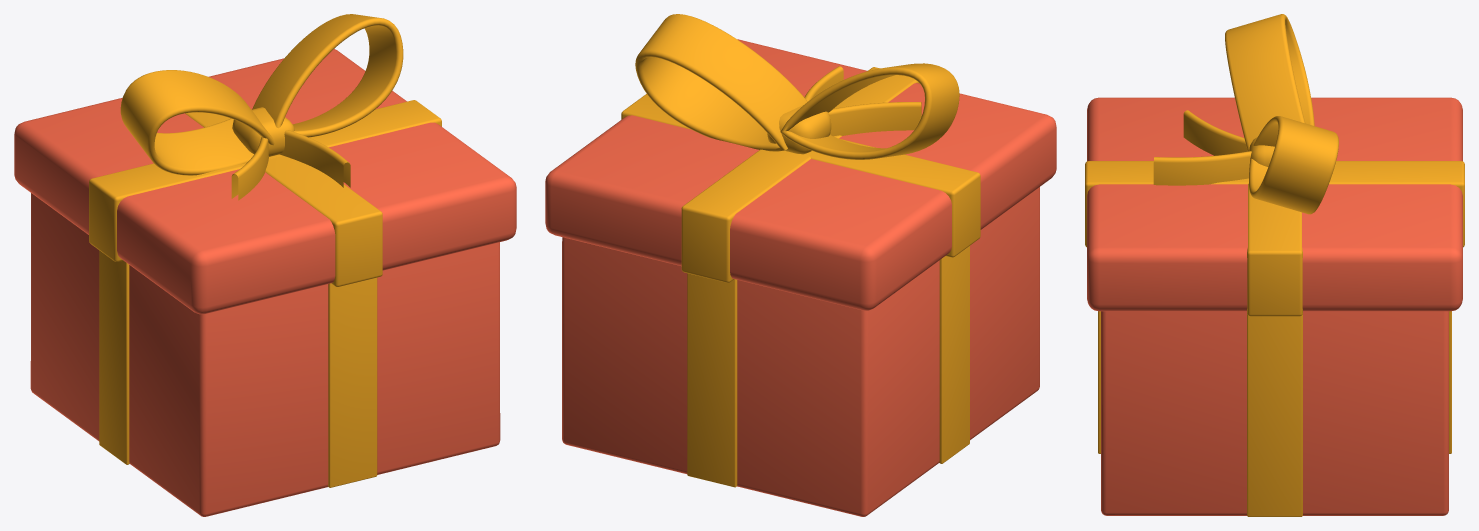
The model's file is giftbox.glb.
The picture shows the model from 3 angles, left to right: view 1: azimuth 30°, elevation 25°; view 2: azimuth 150°, elevation 25°; view 3: azimuth 270°, elevation 25°; orthographic projection.
Visible parts, largest first — view 1: giftbox, lid, bow-loop-l, ribbon-3, bow-loop-r, lid-ribbon-y, lid-ribbon-x, ribbon-1, bow-tail-r, bow-knot, bow-tail-l; view 2: giftbox, lid, bow-loop-r, ribbon-2, lid-ribbon-y, bow-loop-l, ribbon-1, lid-ribbon-x, bow-tail-l, bow-knot; view 3: giftbox, lid, ribbon-0, bow-loop-l, bow-loop-r, lid-ribbon-x, lid-ribbon-y, bow-tail-r, bow-tail-l, bow-knot.
Boxes of the visible parts, x1,y1,x2,y2 form: giftbox: (30, 193, 500, 516); lid: (14, 49, 516, 314); bow-loop-l: (120, 70, 274, 175); ribbon-3: (328, 277, 377, 487); bow-loop-r: (252, 14, 403, 137); lid-ribbon-y: (185, 112, 382, 286); lid-ribbon-x: (89, 100, 441, 261); ribbon-1: (99, 250, 129, 464); bow-tail-r: (280, 130, 350, 187); bow-knot: (232, 107, 294, 156); bow-tail-l: (231, 137, 268, 200); giftbox: (562, 187, 1039, 516); lid: (545, 39, 1056, 310); bow-loop-r: (635, 14, 807, 151); ribbon-2: (687, 273, 737, 487); lid-ribbon-y: (681, 67, 919, 282); bow-loop-l: (780, 63, 959, 159); ribbon-1: (939, 246, 969, 463); lid-ribbon-x: (621, 94, 980, 257); bow-tail-l: (828, 102, 921, 136); bow-knot: (767, 105, 831, 154); giftbox: (1101, 311, 1448, 515); lid: (1087, 97, 1462, 311); ribbon-0: (1247, 313, 1302, 516); bow-loop-l: (1225, 14, 1314, 151); bow-loop-r: (1249, 116, 1338, 214); lid-ribbon-x: (1247, 183, 1302, 316); lid-ribbon-y: (1085, 161, 1464, 247); bow-tail-r: (1153, 151, 1251, 185); bow-tail-l: (1183, 110, 1247, 155); bow-knot: (1249, 137, 1274, 166).
Bounding box in the file's own units: 1.09 × 1.18 × 1.09.
